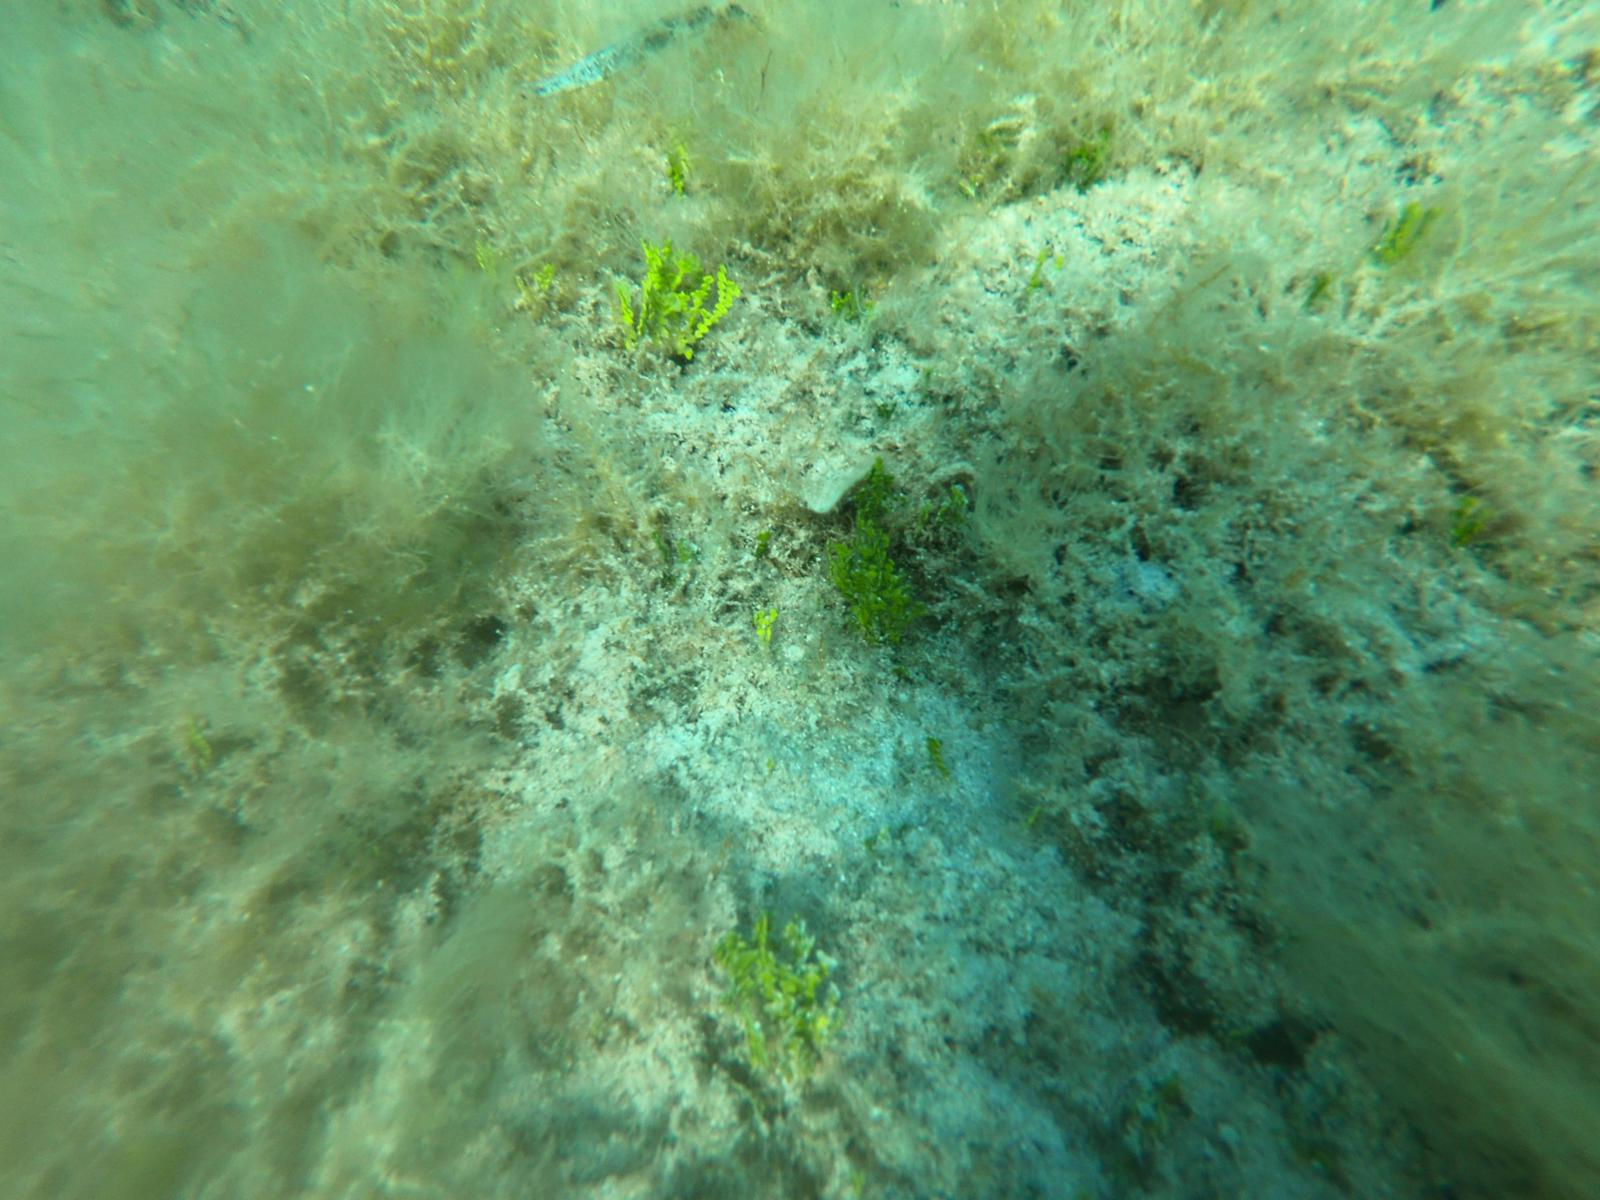halimeda: (724, 921, 845, 1087), (617, 239, 736, 361), (826, 511, 910, 650), (1373, 200, 1437, 258), (515, 268, 556, 310), (659, 137, 690, 185), (750, 597, 779, 639), (871, 456, 887, 509), (472, 239, 495, 276), (829, 287, 855, 314), (949, 487, 965, 519), (1032, 251, 1044, 292), (758, 528, 772, 552)
